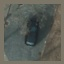car: (24, 16, 40, 47)
